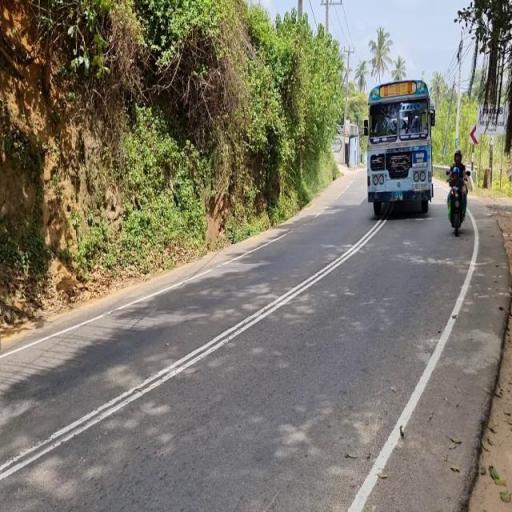double_white_line: (0, 200, 384, 484)
